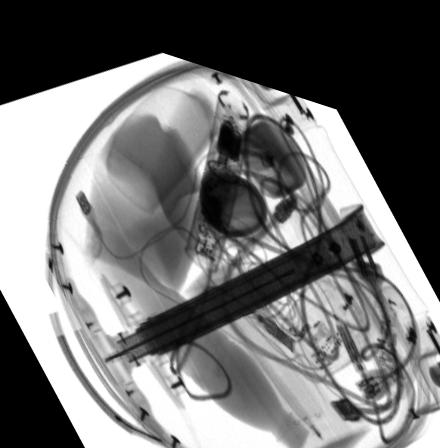Baton: (185, 75, 249, 260)
